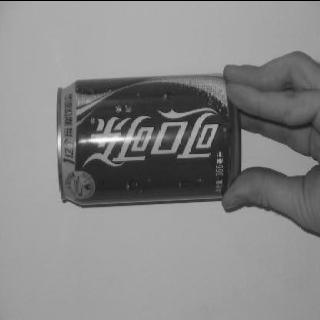alumunium_can: (56, 70, 240, 206)
